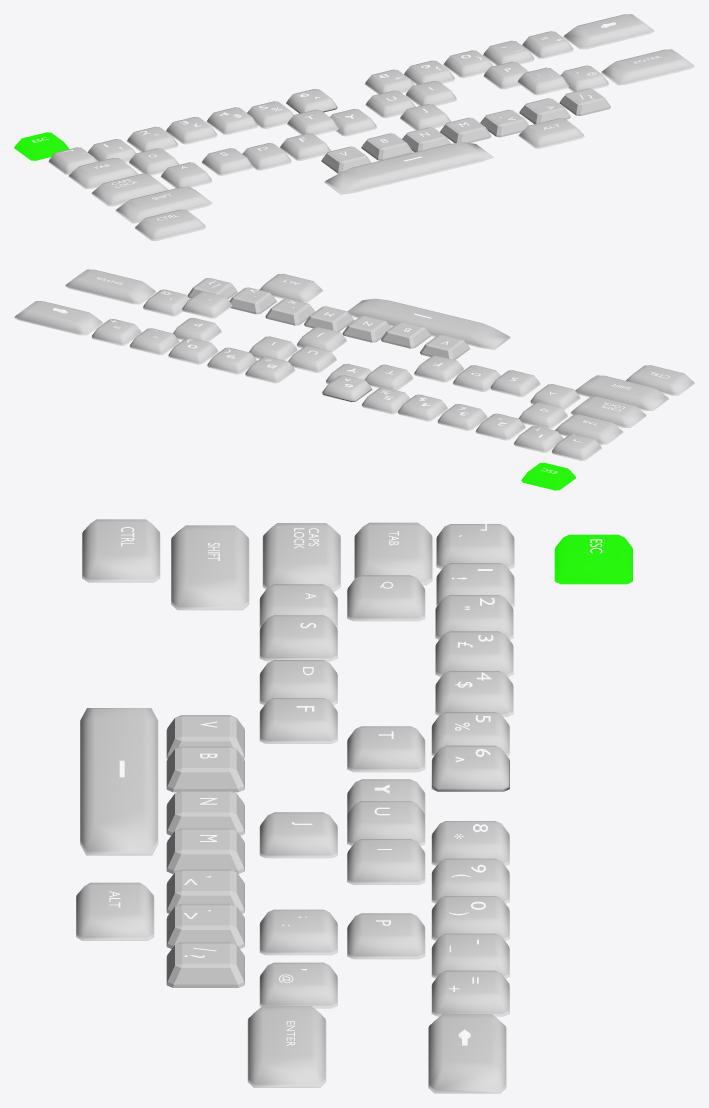
The model's file is keyboard.glb.
3 views of the same model, one above another, from view 1: azimuth 30°, elevation 25°; view 2: azimuth 150°, elevation 25°; view 3: azimuth 270°, elevation 25° (orthographic). The views are drawn at different scales.
Parts seen in each view (by area): view 1: Base Key.236, Base Key.271, Base Key.267, Base Key.286, Base Key.268, Base Key.239, Base Key.240, Base Key.269, Base Key.287, Base Key.265, Base Key.229, Base Key.257 (+29 smaller); view 2: Base Key.236, Base Key.271, Base Key.267, Base Key.286, Base Key.268, Base Key.239, Base Key.269, Base Key.240, Base Key.287, Base Key.265, Base Key.257, Base Key.274 (+29 smaller); view 3: Base Key.236, Base Key.267, Base Key.271, Base Key.286, Base Key.239, Base Key.268, Base Key.240, Base Key.269, Base Key.287, Base Key.248, Base Key.265, Base Key.253 (+29 smaller).
Boxes of the visible parts, x1=… form: Base Key.236: x1=324, y1=142, x2=493, y2=194; Base Key.271: x1=601, y1=49, x2=694, y2=85; Base Key.267: x1=115, y1=186, x2=212, y2=223; Base Key.286: x1=563, y1=14, x2=654, y2=49; Base Key.268: x1=91, y1=173, x2=168, y2=206; Base Key.239: x1=134, y1=209, x2=206, y2=240; Base Key.240: x1=518, y1=118, x2=584, y2=148; Base Key.269: x1=68, y1=158, x2=138, y2=188; Base Key.287: x1=14, y1=132, x2=69, y2=160; Base Key.265: x1=517, y1=67, x2=568, y2=95; Base Key.229: x1=559, y1=88, x2=610, y2=115; Base Key.257: x1=201, y1=148, x2=252, y2=175; Base Key.236: x1=347, y1=298, x2=510, y2=349; Base Key.271: x1=65, y1=269, x2=156, y2=304; Base Key.267: x1=575, y1=375, x2=668, y2=410; Base Key.286: x1=14, y1=301, x2=102, y2=335; Base Key.268: x1=570, y1=396, x2=646, y2=427; Base Key.239: x1=626, y1=365, x2=694, y2=395; Base Key.269: x1=555, y1=414, x2=623, y2=444; Base Key.240: x1=259, y1=273, x2=322, y2=303; Base Key.287: x1=521, y1=462, x2=575, y2=490; Base Key.265: x1=182, y1=291, x2=231, y2=318; Base Key.257: x1=490, y1=370, x2=540, y2=396; Base Key.274: x1=129, y1=328, x2=179, y2=355; Base Key.236: x1=80, y1=708, x2=158, y2=855; Base Key.267: x1=171, y1=525, x2=249, y2=610; Base Key.271: x1=247, y1=1006, x2=326, y2=1087; Base Key.286: x1=428, y1=1014, x2=506, y2=1093; Base Key.239: x1=82, y1=519, x2=160, y2=582; Base Key.268: x1=262, y1=523, x2=340, y2=591; Base Key.240: x1=76, y1=882, x2=154, y2=940; Base Key.269: x1=354, y1=522, x2=432, y2=585; Base Key.287: x1=554, y1=534, x2=632, y2=584; Base Key.248: x1=347, y1=726, x2=425, y2=772; Base Key.265: x1=259, y1=909, x2=337, y2=955; Base Key.253: x1=347, y1=913, x2=425, y2=959.
Size of the model in its own units: 1.82 by 0.0788 by 0.7583.
